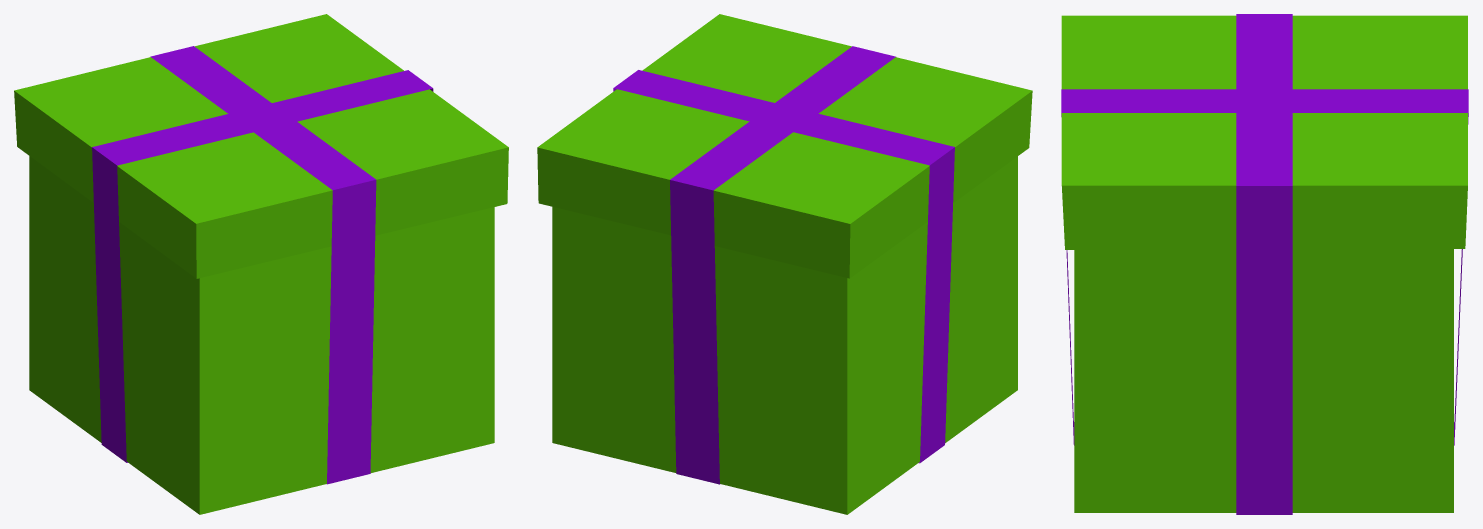
The model's file is Present (Lime).fbx.
3 views of the same model, side by side, from view 1: azimuth 30°, elevation 25°; view 2: azimuth 150°, elevation 25°; view 3: azimuth 270°, elevation 25° (orthographic). The views are drawn at different scales.
Visible parts, largest first — view 1: Cube, Ribbon; view 2: Cube, Ribbon; view 3: Cube, Ribbon.
Part boxes in pixels (<box>): Cube: <box>14,14,508,514</box>; Ribbon: <box>92,46,433,484</box>; Cube: <box>537,14,1032,514</box>; Ribbon: <box>613,46,954,484</box>; Cube: <box>1061,15,1467,512</box>; Ribbon: <box>1061,14,1468,514</box>.
Bounding box in the file's own units: 214 × 195 × 214.
